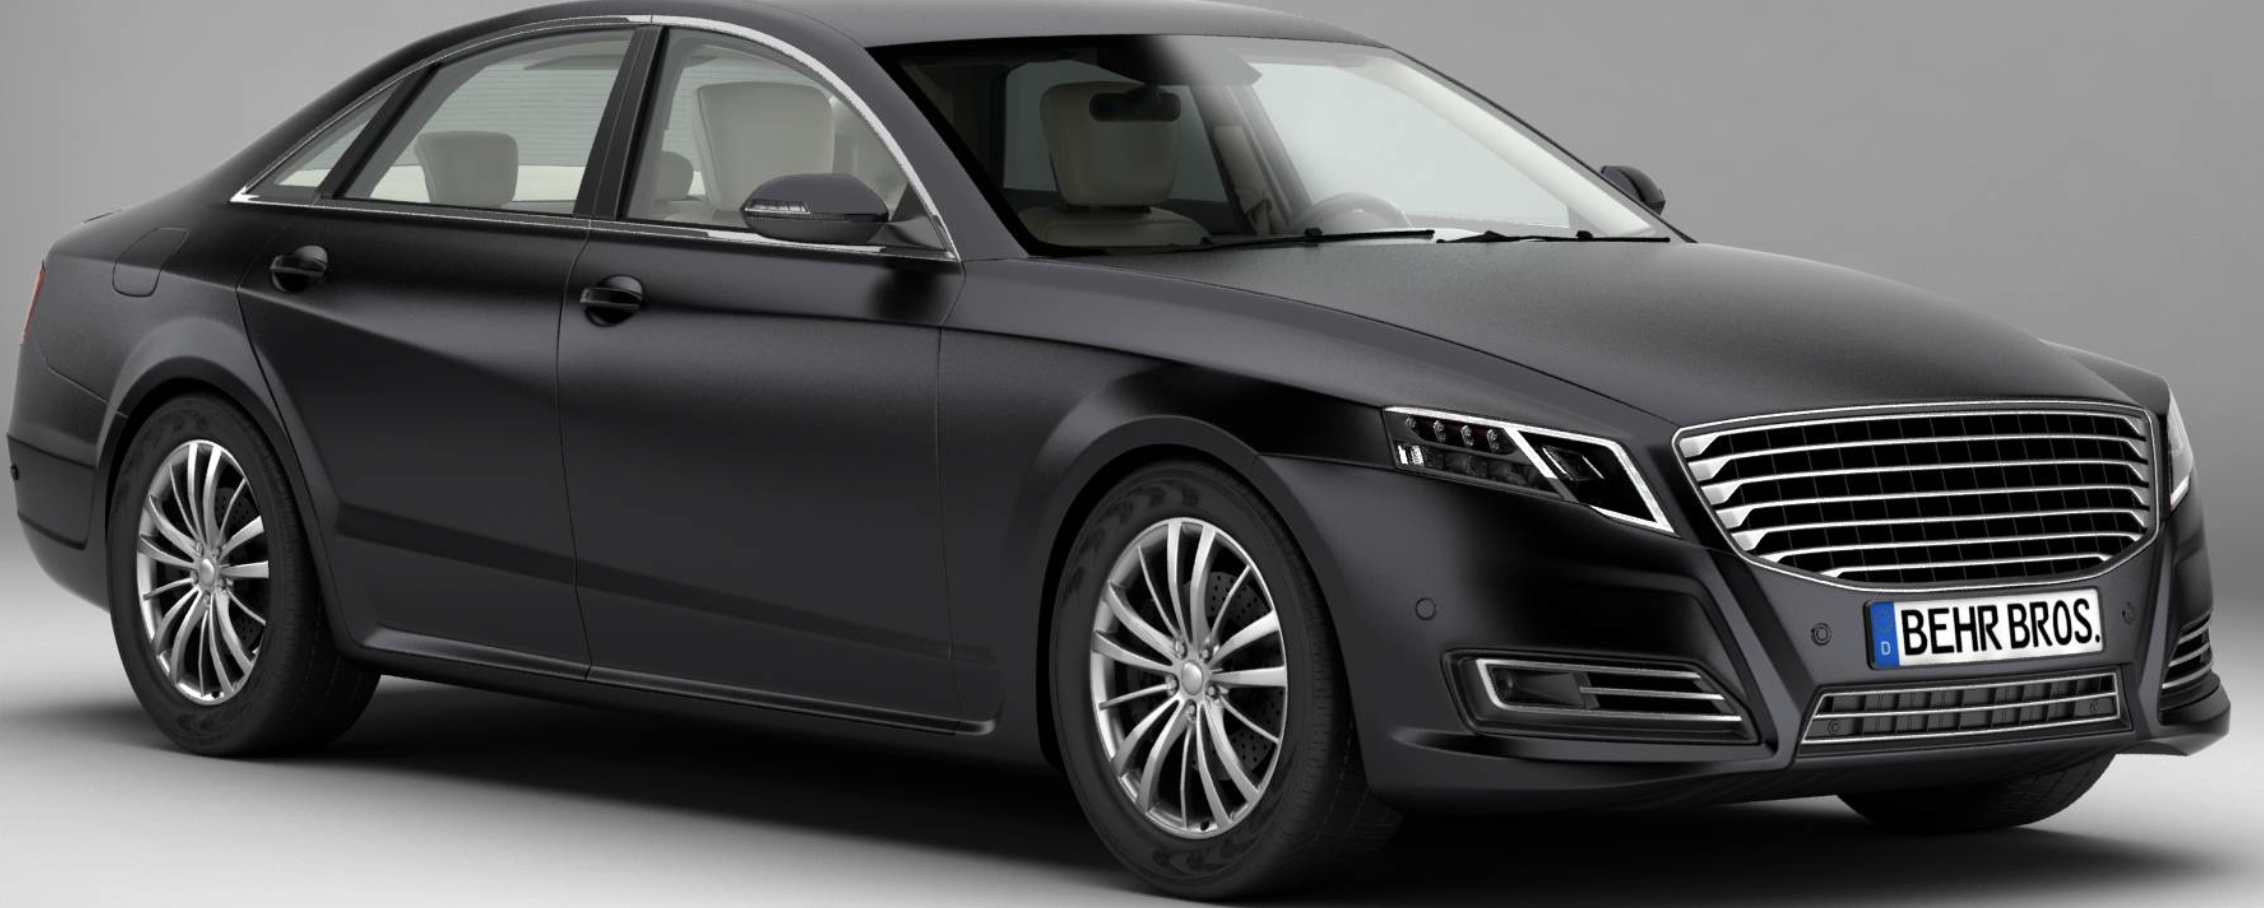hatch: (105, 219, 201, 303)
